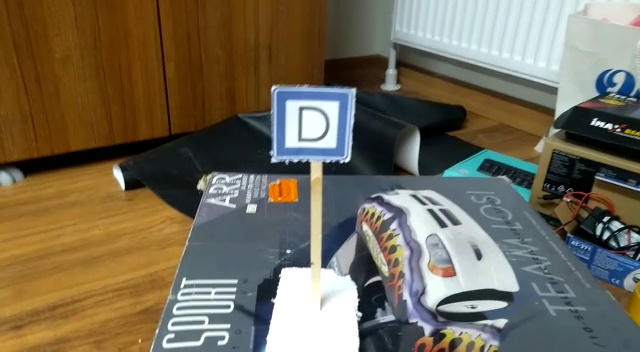durak: (273, 88, 347, 157)
